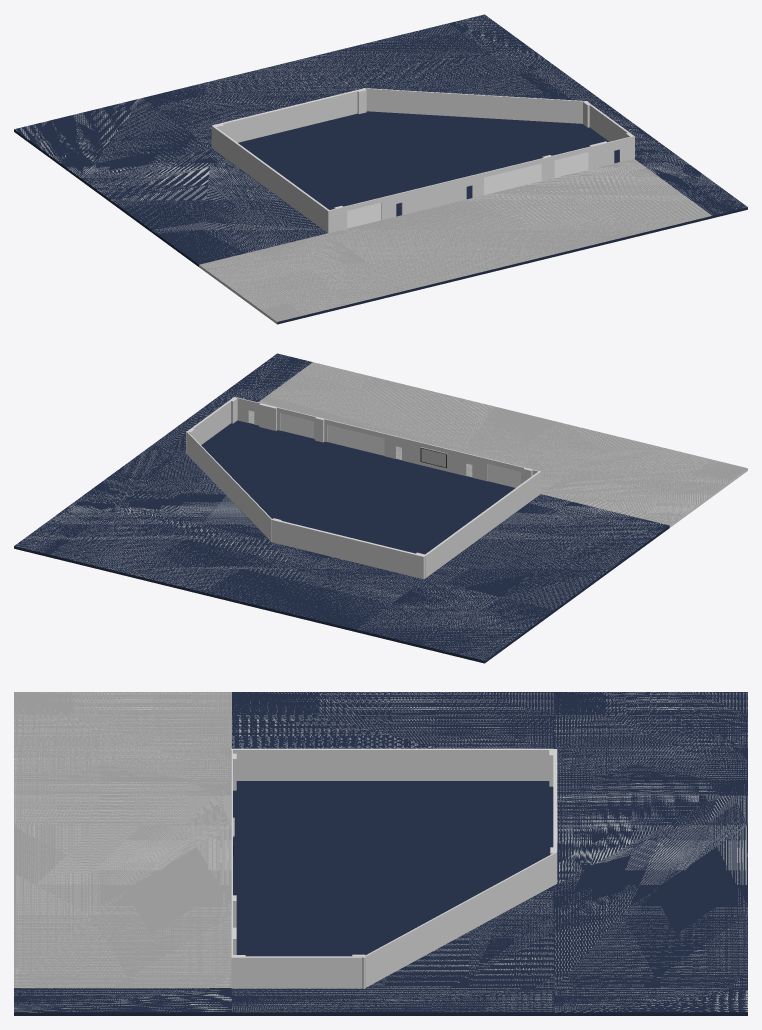
Rendered from mvb211_mtl_walls.fbx.
3 renders of one model, top to bottom at view 1: azimuth 30°, elevation 25°; view 2: azimuth 150°, elevation 25°; view 3: azimuth 270°, elevation 25°, orthographic. The views are drawn at different scales.
Parts seen in each view (by area): view 1: mvb211:floor_mvb211, mvb211:wall4, mvb211:Wall1_update, mvb211:wall3, mvb211:wall2, mvb211:large_window_glass2, mvb211:wall5, mvb211:large_window_glass3, mvb211:large_window_glass1; view 2: mvb211:floor_mvb211, mvb211:wall3, mvb211:Wall1_update, mvb211:wall2, mvb211:wall4, mvb211:large_window_glass2, mvb211:wall5, mvb211:large_window_glass3, mvb211:large_window_glass1; view 3: mvb211:floor_mvb211, mvb211:wall2, mvb211:wall4, mvb211:wall5, mvb211:wall3.
Boxes of the visible parts, x1,y1,x2,y2 form: mvb211:floor_mvb211: [14, 14, 747, 324]; mvb211:wall4: [364, 88, 588, 123]; mvb211:Wall1_update: [328, 136, 634, 232]; mvb211:wall3: [211, 88, 365, 147]; mvb211:wall2: [212, 126, 330, 233]; mvb211:large_window_glass2: [484, 163, 541, 194]; mvb211:wall5: [587, 102, 634, 158]; mvb211:large_window_glass3: [554, 152, 588, 177]; mvb211:large_window_glass1: [347, 202, 380, 228]; mvb211:floor_mvb211: [14, 353, 747, 663]; mvb211:wall3: [271, 519, 424, 579]; mvb211:Wall1_update: [234, 397, 540, 483]; mvb211:wall2: [424, 471, 541, 578]; mvb211:wall4: [186, 431, 272, 541]; mvb211:large_window_glass2: [327, 424, 384, 455]; mvb211:wall5: [186, 397, 234, 454]; mvb211:large_window_glass3: [280, 413, 313, 438]; mvb211:large_window_glass1: [487, 464, 520, 487]; mvb211:floor_mvb211: [14, 692, 747, 1015]; mvb211:wall2: [231, 748, 553, 780]; mvb211:wall4: [362, 852, 556, 988]; mvb211:wall5: [231, 956, 365, 988]; mvb211:wall3: [553, 749, 557, 883].
Size of the model in its own units: 199 by 10.15 by 193.
